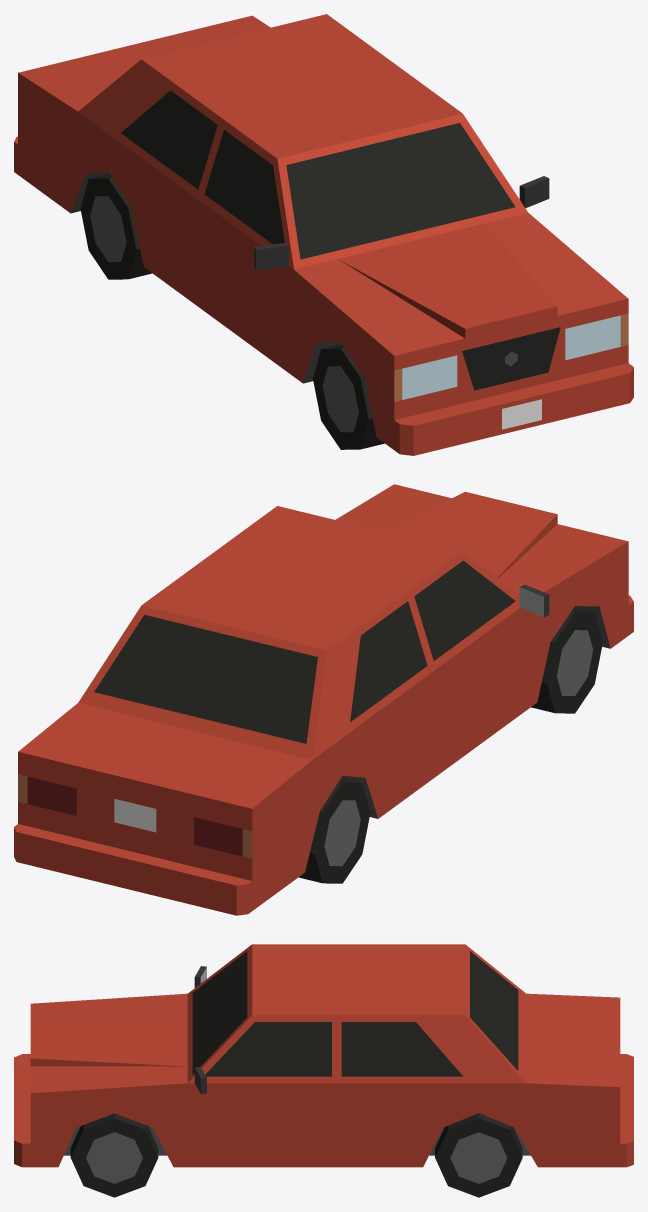
Rendered from Veh_Sedan_02_Red.obj.
3 renders of one model, top to bottom at view 1: azimuth 30°, elevation 25°; view 2: azimuth 150°, elevation 25°; view 3: azimuth 270°, elevation 25°, orthographic. The views are drawn at different scales.
Size of the model in its own units: 1.16 by 0.8379 by 2.72.
